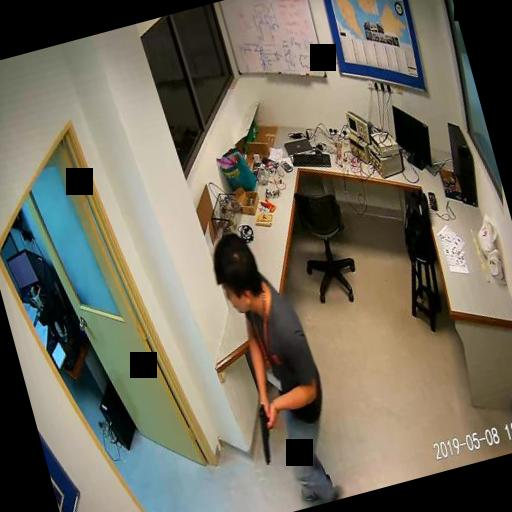Handgun: (249, 398, 282, 463)
